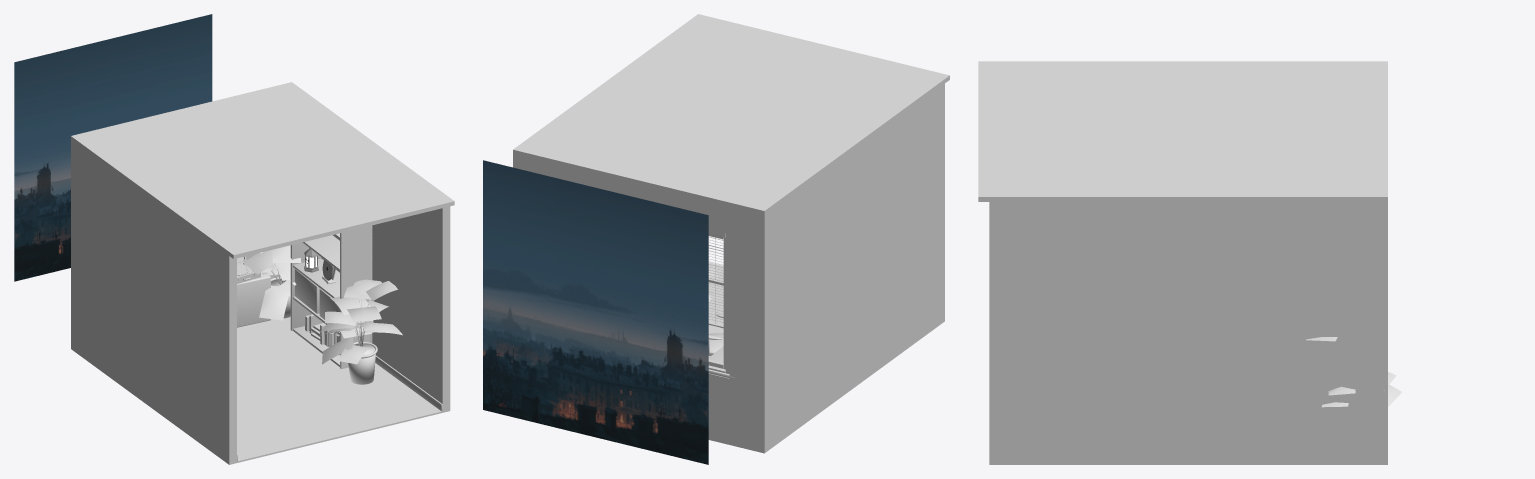
File: room.glb
3 views of the same model, side by side, from view 1: azimuth 30°, elevation 25°; view 2: azimuth 150°, elevation 25°; view 3: azimuth 270°, elevation 25° (orthographic). The views are drawn at different scales.
Parts seen in each view (by area): view 1: Ceiling, Wall_Left, City_Backdrop, Floor, Wall_Right, Shelf_Projects, Foreground_Plant, Corner_Plant, Music_Cabinet, Wall_Back, Shelf_Decor_02, Shelf_Decor_01 (+1 smaller); view 2: City_Backdrop, Ceiling, Wall_Left, Wall_Back, Floor, Window, Window_Blinds; view 3: Wall_Right, Ceiling, Wall_Back, Floor, Corner_Plant.
Part boxes in pixels (left/top/right/bottom): Ceiling: left=71, top=82, right=454, bottom=258; Wall_Left: left=75, top=143, right=236, bottom=463; City_Backdrop: left=14, top=14, right=212, bottom=281; Floor: left=71, top=316, right=450, bottom=464; Wall_Right: left=372, top=206, right=450, bottom=410; Shelf_Projects: left=290, top=225, right=372, bottom=368; Foreground_Plant: left=320, top=279, right=402, bottom=384; Corner_Plant: left=243, top=245, right=301, bottom=320; Music_Cabinet: left=237, top=273, right=270, bottom=327; Wall_Back: left=71, top=140, right=280, bottom=350; Shelf_Decor_02: left=295, top=269, right=339, bottom=319; Shelf_Decor_01: left=305, top=314, right=339, bottom=354; City_Backdrop: left=483, top=160, right=708, bottom=464; Ceiling: left=513, top=14, right=949, bottom=215; Wall_Left: left=756, top=84, right=944, bottom=447; Wall_Back: left=513, top=154, right=769, bottom=451; Floor: left=708, top=262, right=944, bottom=453; Window: left=708, top=229, right=729, bottom=374; Window_Blinds: left=708, top=236, right=723, bottom=328; Wall_Right: left=989, top=202, right=1387, bottom=462; Ceiling: left=978, top=61, right=1387, bottom=201; Wall_Back: left=1376, top=202, right=1387, bottom=462; Floor: left=989, top=463, right=1387, bottom=464; Corner_Plant: left=1306, top=337, right=1401, bottom=407.
Bounding box in the file's own units: 3.06 × 3.12 × 4.9.
Materials: 56 (2 with a texture image).
